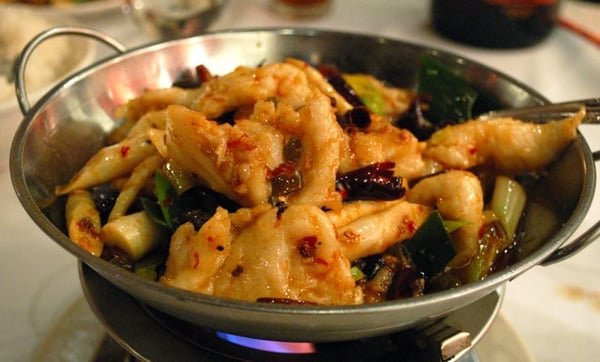sushi: (22, 22, 600, 349)
